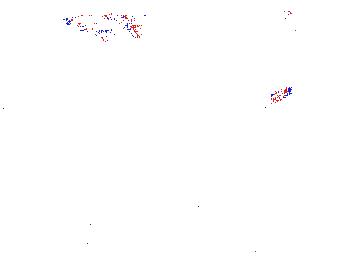red belly glassfish: (260, 85, 293, 103), (119, 11, 150, 24)
redtail glassfish: (58, 14, 146, 43)
siberian prawn: (29, 223, 104, 254)
